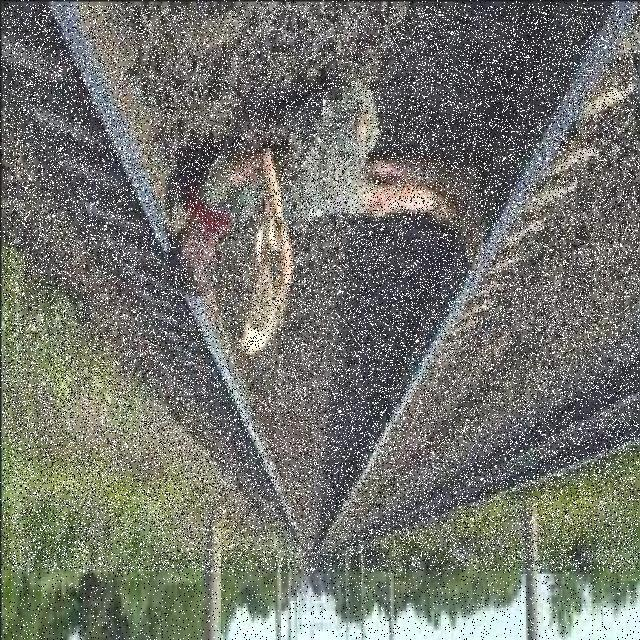danger: (163, 71, 502, 377)
rail: (3, 6, 640, 571)
